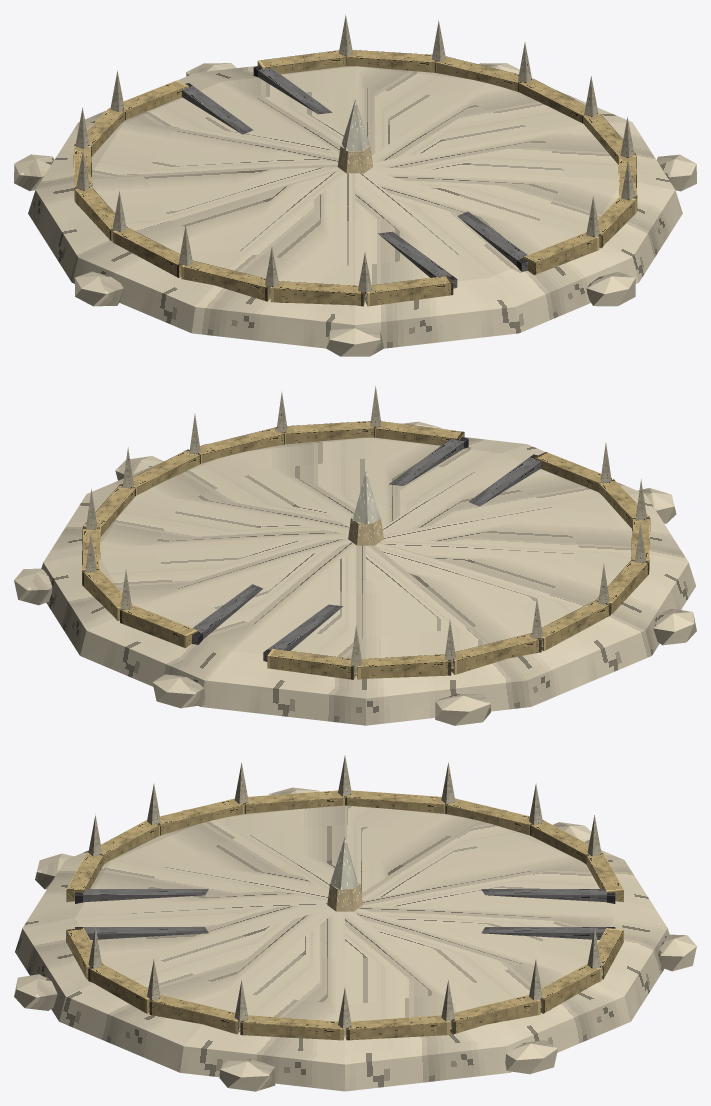
File: prop_snare.gltf
The picture shows the model from 3 angles, top to bottom: view 1: azimuth 30°, elevation 25°; view 2: azimuth 150°, elevation 25°; view 3: azimuth 270°, elevation 25°; orthographic projection.
Visible parts, largest first — view 1: base, jaw_l, jaw_r, lamp; view 2: base, jaw_l, jaw_r, lamp; view 3: base, jaw_r, jaw_l, lamp.
Part boxes in pixels (x1=…): base: x1=14, y1=63, x2=696, y2=356; jaw_l: x1=73, y1=70, x2=457, y2=306; jaw_r: x1=253, y1=14, x2=637, y2=275; lamp: x1=337, y1=99, x2=372, y2=173; base: x1=14, y1=421, x2=696, y2=725; jaw_l: x1=263, y1=442, x2=650, y2=679; jaw_r: x1=82, y1=386, x2=468, y2=648; lamp: x1=348, y1=471, x2=383, y2=545; base: x1=14, y1=787, x2=696, y2=1091; jaw_r: x1=66, y1=927, x2=623, y2=1040; jaw_l: x1=66, y1=755, x2=623, y2=903; lamp: x1=327, y1=837, x2=362, y2=911.
Bounding box in the file's own units: 0.9163 × 0.175 × 0.9102.
Materials: 4 (4 with a texture image).
